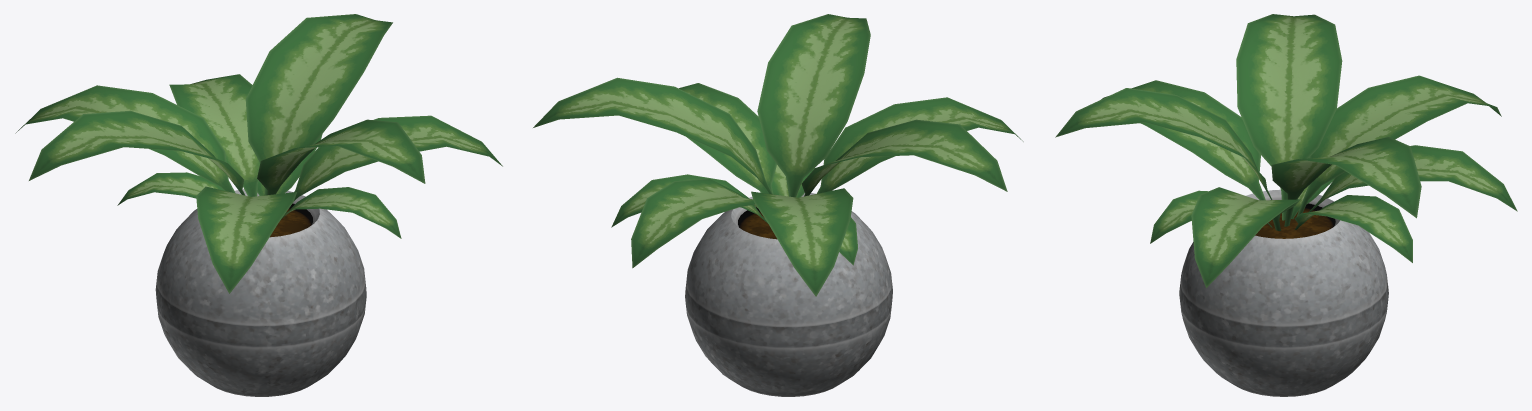
Rendered from c_flowerpot_lod1_Material_512px__0.fbx.
3 views of the same model, side by side, from view 1: azimuth 30°, elevation 25°; view 2: azimuth 150°, elevation 25°; view 3: azimuth 270°, elevation 25° (orthographic).
Parts seen in each view (by area): view 1: c_flowerpot_lod1_Material(512px)_0; view 2: c_flowerpot_lod1_Material(512px)_0; view 3: c_flowerpot_lod1_Material(512px)_0.
Boxes of the visible parts, <box> form: c_flowerpot_lod1_Material(512px)_0: <box>15,14,502,396</box>; c_flowerpot_lod1_Material(512px)_0: <box>533,14,1023,396</box>; c_flowerpot_lod1_Material(512px)_0: <box>1055,14,1517,396</box>.
Size of the model in its own units: 154 by 97.72 by 145.
